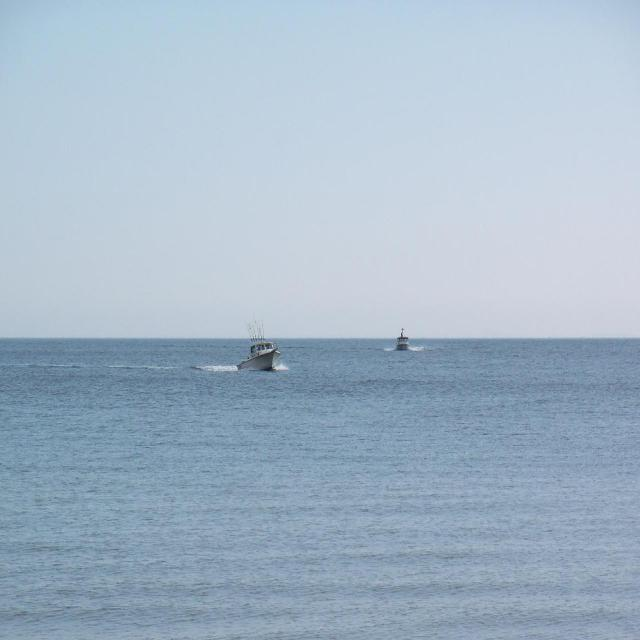houseboat: (237, 320, 280, 371), (391, 321, 417, 355)
